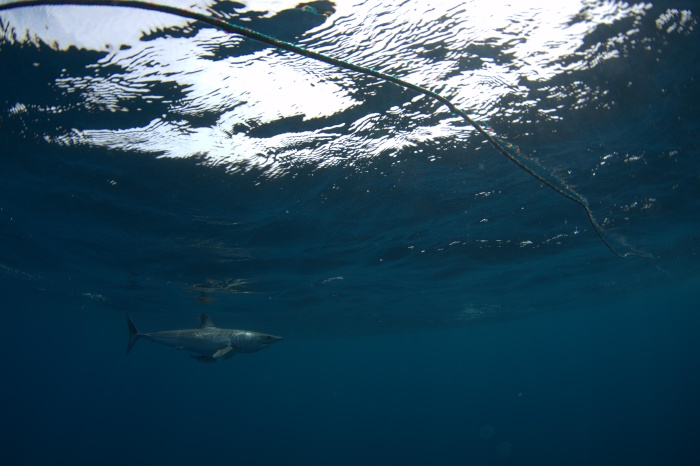Mako: (109, 310, 289, 367)
